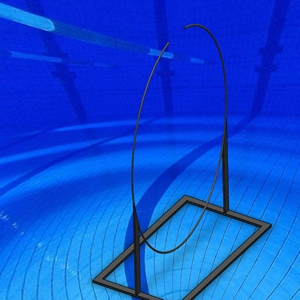circle: (92, 22, 272, 299)
